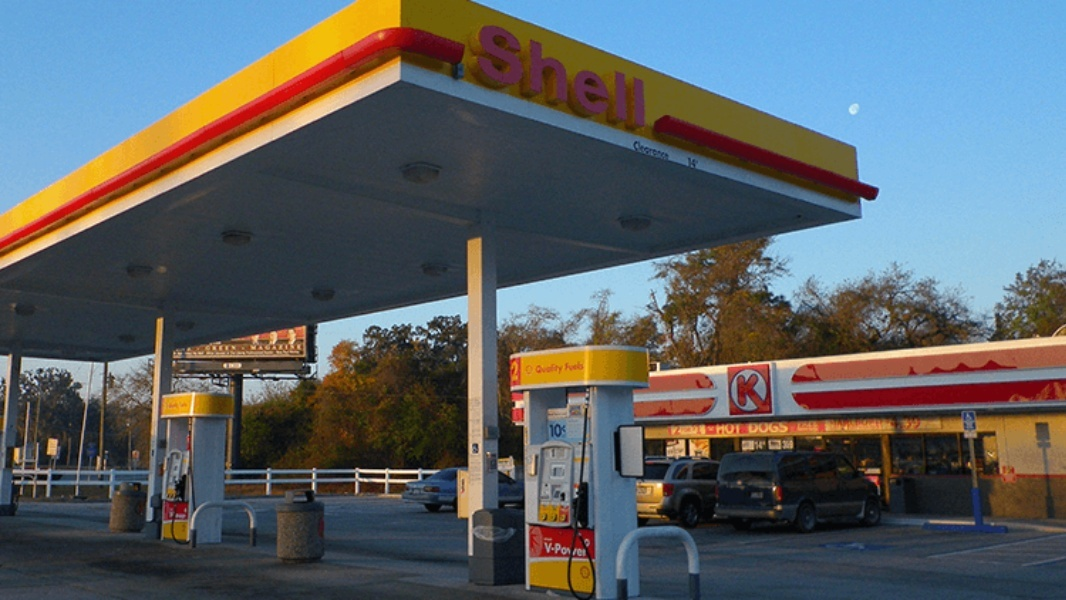text: (481, 19, 496, 134), (497, 19, 512, 134), (513, 19, 528, 134), (529, 19, 544, 134), (545, 19, 560, 134), (561, 19, 576, 134), (577, 19, 592, 134), (593, 19, 608, 134), (609, 19, 624, 134), (625, 19, 640, 134), (641, 19, 647, 134), (737, 373, 752, 409), (753, 373, 764, 409), (641, 138, 656, 164), (657, 138, 671, 164), (833, 414, 848, 433), (849, 414, 864, 433), (865, 414, 880, 433), (881, 414, 896, 433), (897, 414, 912, 433), (545, 541, 560, 556), (561, 541, 576, 556), (801, 419, 816, 433), (225, 342, 241, 355), (721, 423, 736, 436), (209, 342, 224, 355), (633, 138, 640, 164), (753, 421, 768, 433), (769, 421, 784, 433), (577, 541, 588, 556), (289, 342, 305, 352), (545, 364, 560, 374), (257, 342, 272, 352), (273, 342, 288, 352), (549, 424, 560, 437), (913, 414, 920, 433), (563, 362, 576, 372), (689, 157, 698, 170), (826, 414, 832, 433), (513, 362, 518, 382), (535, 364, 544, 374), (508, 362, 512, 382), (248, 342, 256, 352), (202, 342, 208, 355), (734, 373, 736, 409), (715, 423, 720, 436), (577, 362, 583, 372), (796, 419, 800, 433), (737, 423, 741, 436), (785, 421, 788, 433), (817, 419, 819, 433), (561, 424, 563, 437), (750, 421, 752, 433), (543, 541, 544, 556), (687, 157, 688, 170), (561, 364, 562, 374)
